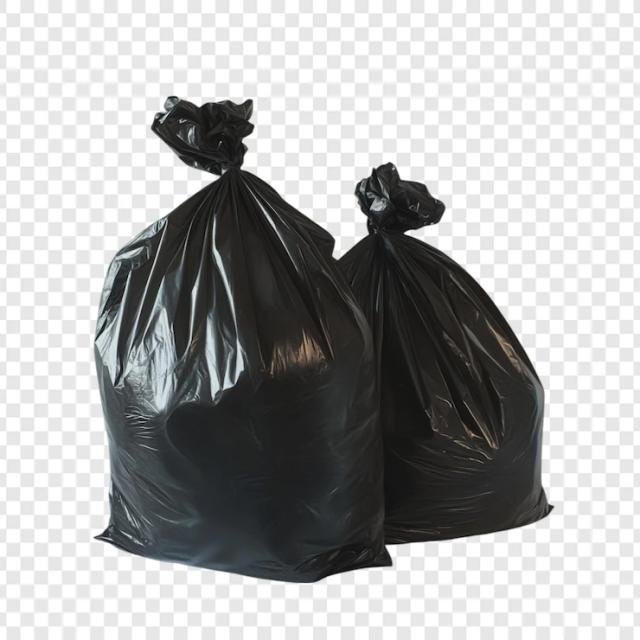plastic_bag: (43, 99, 388, 580), (342, 158, 536, 538)
